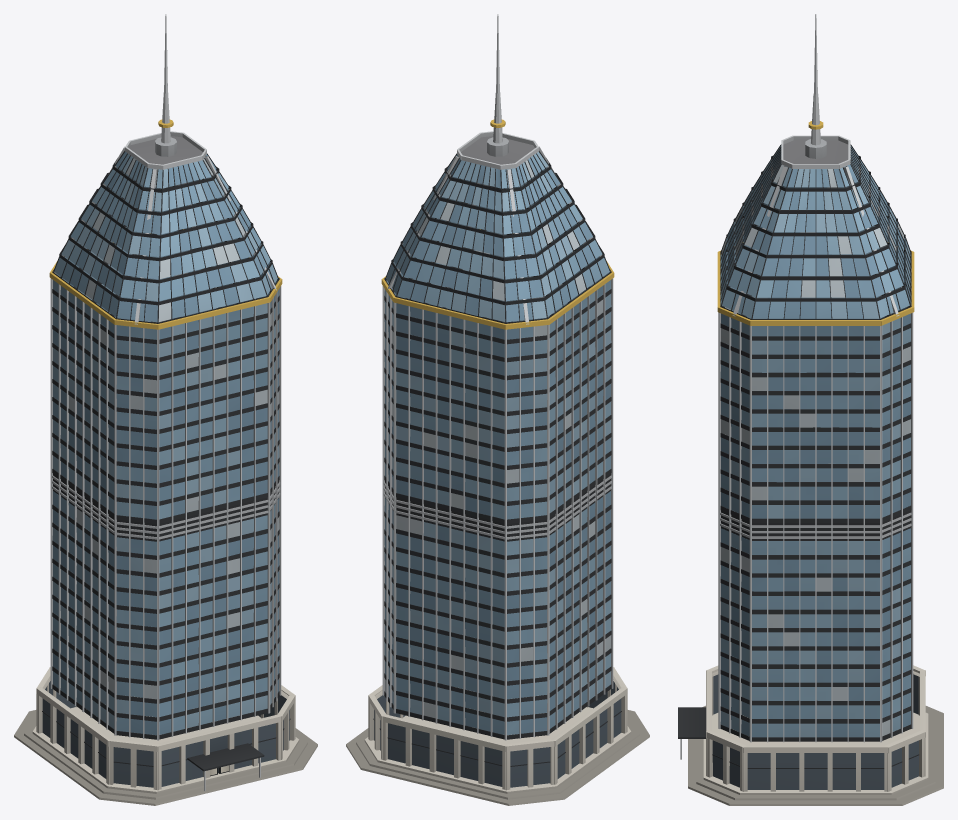
3 renders of one model, left to right at view 1: azimuth 30°, elevation 25°; view 2: azimuth 150°, elevation 25°; view 3: azimuth 270°, elevation 25°, orthographic.
Parts seen in each view (by area): view 1: t0; view 2: t0; view 3: t0.
Boxes of the visible parts, x1,y1,x2,y2 form: t0: (14, 14, 317, 805); t0: (346, 14, 649, 805); t0: (678, 14, 943, 805).
Size of the model in its own units: 49.65 by 158 by 51.57.
